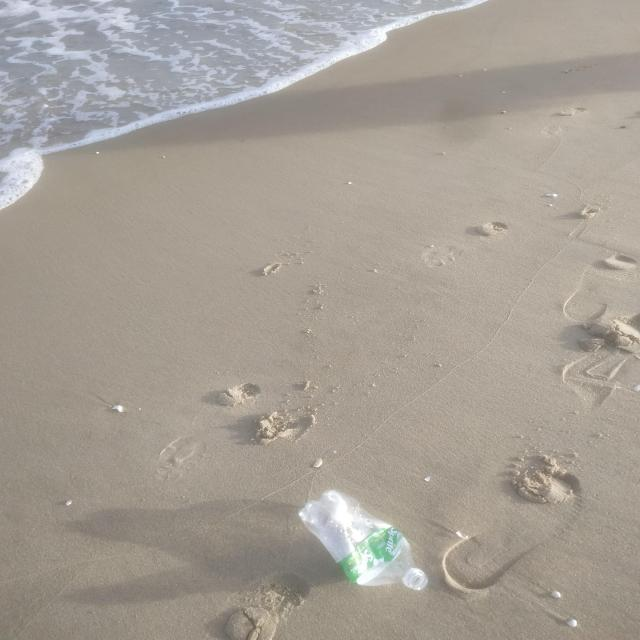litter: (297, 488, 429, 590)
